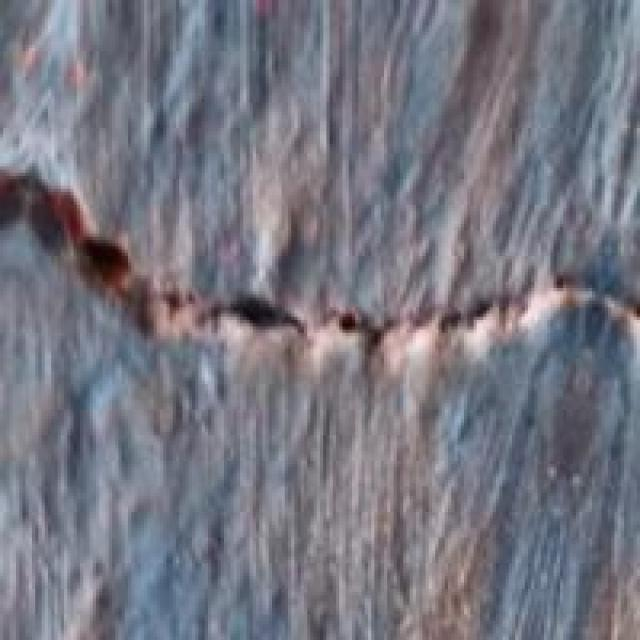crack: (0, 106, 637, 444)
